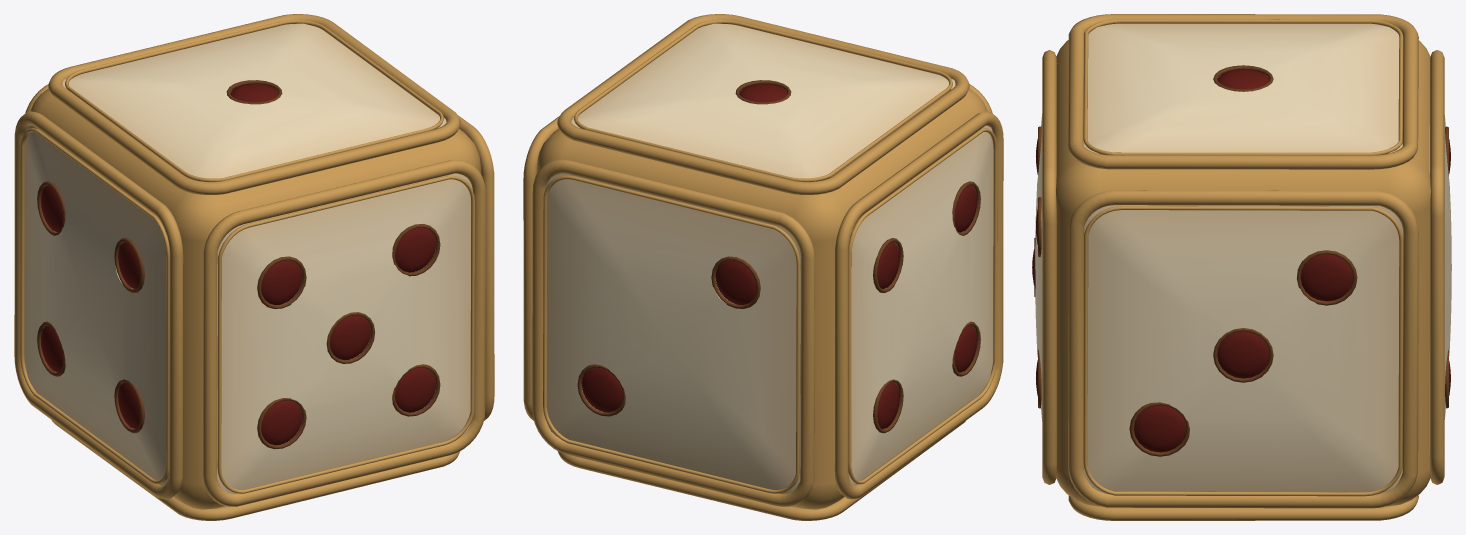
File: dice.glb
The picture shows the model from 3 angles, left to right: view 1: azimuth 30°, elevation 25°; view 2: azimuth 150°, elevation 25°; view 3: azimuth 270°, elevation 25°; orthographic projection. The views are drawn at different scales.
Parts seen in each view (by area): view 1: Dice_Crowned_Ivory_Faces, Dice_Sculpted_Brass_Moldings, Dice_Rounded_Brass_Core, Dice_Wine_Enamel_21, Dice_Inlay_Recess_Rims; view 2: Dice_Crowned_Ivory_Faces, Dice_Sculpted_Brass_Moldings, Dice_Rounded_Brass_Core, Dice_Wine_Enamel_21, Dice_Inlay_Recess_Rims; view 3: Dice_Crowned_Ivory_Faces, Dice_Sculpted_Brass_Moldings, Dice_Rounded_Brass_Core, Dice_Wine_Enamel_21, Dice_Inlay_Recess_Rims.
Boxes of the visible parts, x1,y1,x2,y2 form: Dice_Crowned_Ivory_Faces: (24,23,472,507); Dice_Sculpted_Brass_Moldings: (14,14,494,520); Dice_Rounded_Brass_Core: (30,88,481,509); Dice_Wine_Enamel_21: (41,83,436,445); Dice_Inlay_Recess_Rims: (37,80,440,449); Dice_Crowned_Ivory_Faces: (545,23,993,507); Dice_Sculpted_Brass_Moldings: (523,14,1003,520); Dice_Rounded_Brass_Core: (536,88,987,509); Dice_Wine_Enamel_21: (581,83,976,428); Dice_Inlay_Recess_Rims: (577,80,980,433); Dice_Crowned_Ivory_Faces: (1035,23,1451,493); Dice_Sculpted_Brass_Moldings: (1042,14,1444,520); Dice_Rounded_Brass_Core: (1056,40,1430,506); Dice_Wine_Enamel_21: (1032,69,1450,452); Dice_Inlay_Recess_Rims: (1034,65,1448,456).
Bounding box in the file's own units: 2.19 × 2.19 × 2.19.
